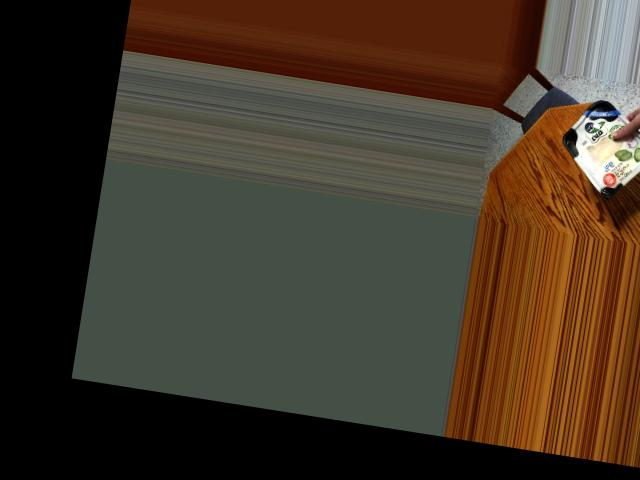cheese: (555, 102, 640, 192)
